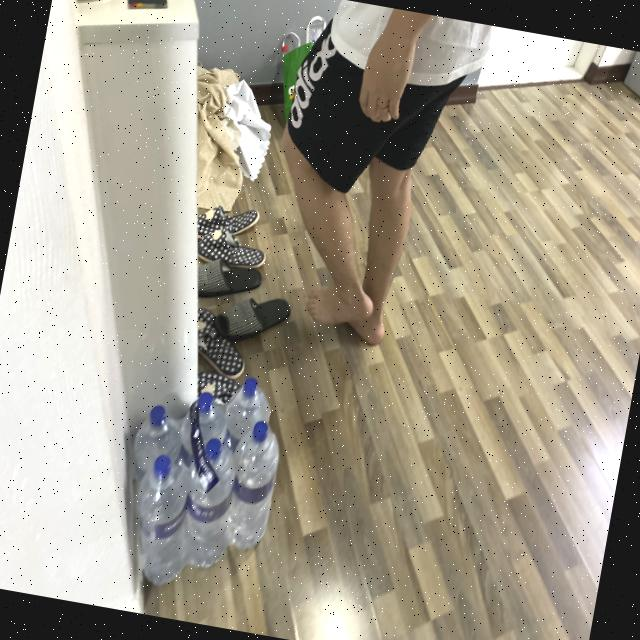no-boots: (289, 268, 379, 342)
